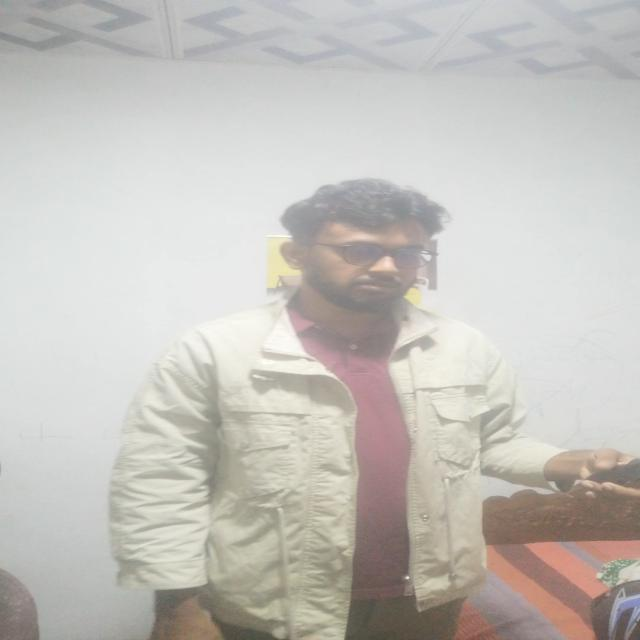Jacket_Wearer: (111, 296, 573, 640)
Person: (108, 172, 634, 640)
